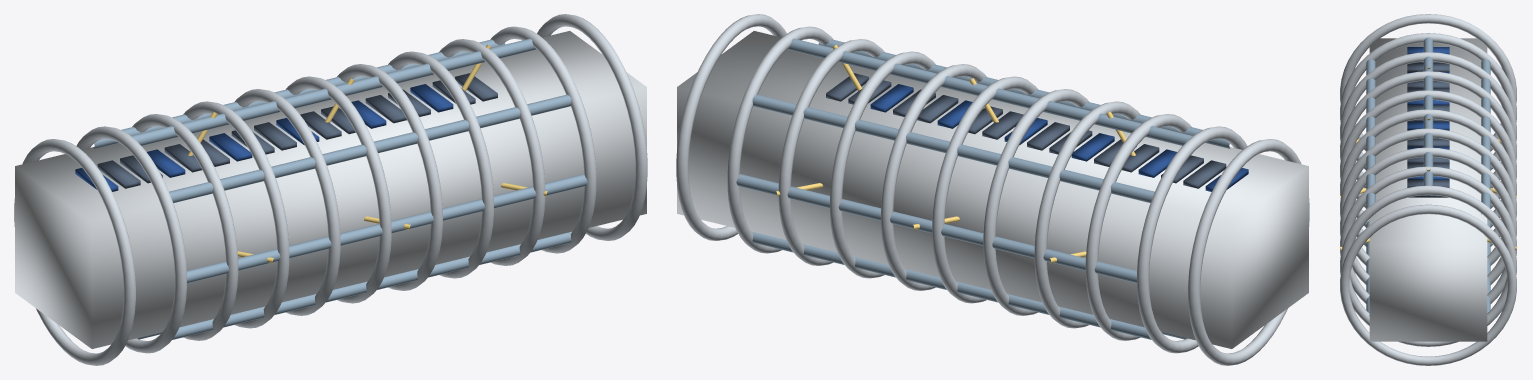
The model's file is 02_L85_StationOrbitalTrussSpine.glb.
3 views of the same model, side by side, from view 1: azimuth 30°, elevation 25°; view 2: azimuth 150°, elevation 25°; view 3: azimuth 270°, elevation 25° (orthographic). The views are drawn at different scales.
Parts seen in each view (by area): view 1: L85_StationOrbitalTrussSpine; view 2: L85_StationOrbitalTrussSpine; view 3: L85_StationOrbitalTrussSpine.
Part boxes in pixels (x1,y1,x2,y2): L85_StationOrbitalTrussSpine: (14, 14, 647, 365); L85_StationOrbitalTrussSpine: (676, 14, 1309, 365); L85_StationOrbitalTrussSpine: (1339, 14, 1517, 365).
Size of the model in its own units: 7.7 by 2.84 by 2.84.
